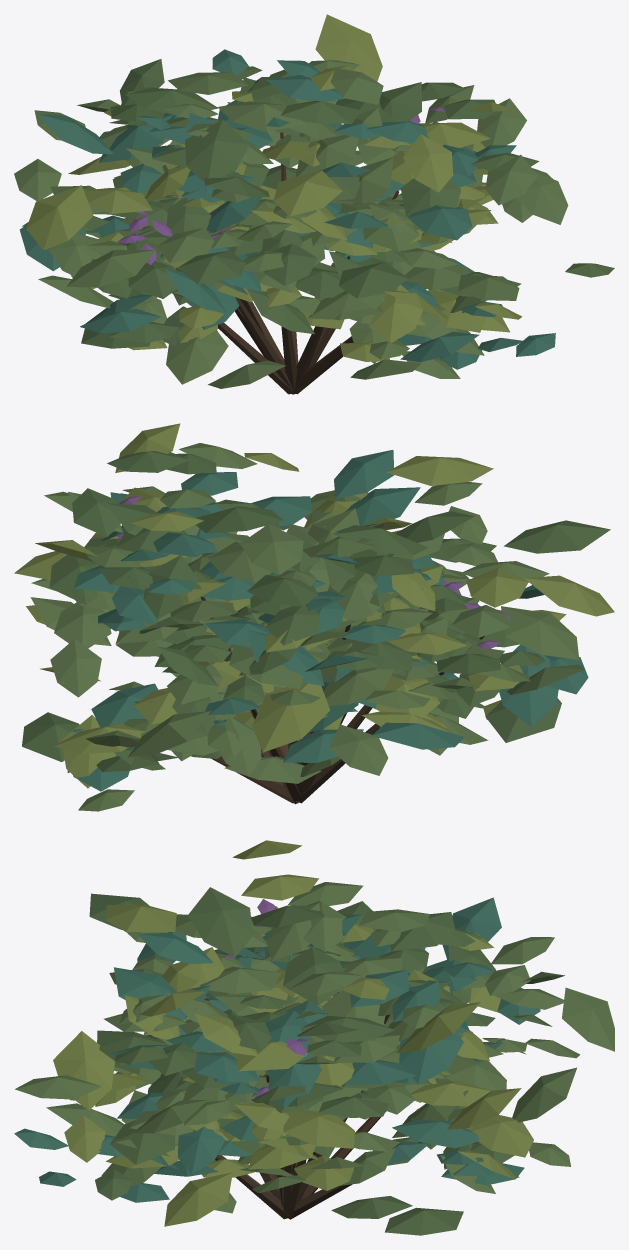
File: reference_low_shrub_a.glb
3 renders of one model, top to bottom at view 1: azimuth 30°, elevation 25°; view 2: azimuth 150°, elevation 25°; view 3: azimuth 270°, elevation 25°, orthographic. The views are drawn at different scales.
Parts seen in each view (by area): view 1: Low_Shrub_A; view 2: Low_Shrub_A; view 3: Low_Shrub_A.
Boxes of the visible parts, box(x1,y1,x2,y2) form: Low_Shrub_A: box(14, 14, 614, 394); Low_Shrub_A: box(14, 423, 614, 811); Low_Shrub_A: box(14, 840, 614, 1235).
Bounding box in the file's own units: 1.49 × 0.8043 × 1.51.
